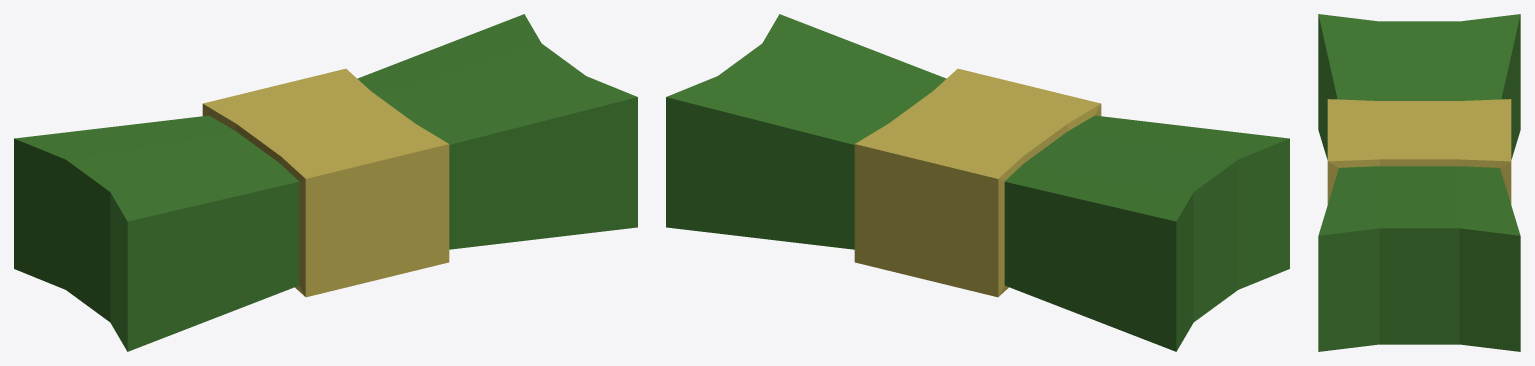
Rendered from Money.fbx.
The picture shows the model from 3 angles, left to right: view 1: azimuth 30°, elevation 25°; view 2: azimuth 150°, elevation 25°; view 3: azimuth 270°, elevation 25°; orthographic projection. The views are drawn at different scales.
Parts seen in each view (by area): view 1: Money; view 2: Money; view 3: Money.
Boxes of the visible parts, x1,y1,x2,y2 form: Money: (14, 14, 637, 351); Money: (666, 14, 1289, 351); Money: (1318, 14, 1520, 351).
Size of the model in its own units: 56.81 by 13.87 by 21.88.
